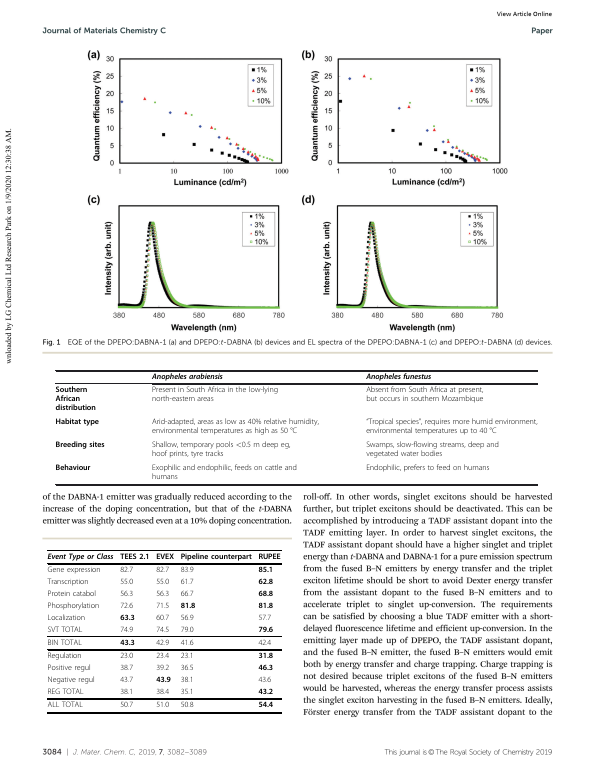borderless: (54, 369, 537, 484), (46, 549, 281, 712)
cell: (365, 418, 538, 437), (151, 418, 320, 437), (151, 464, 298, 483), (151, 441, 291, 460), (365, 441, 500, 460), (151, 386, 279, 405), (365, 386, 484, 405), (365, 464, 490, 474), (54, 386, 97, 414), (151, 373, 224, 382), (180, 553, 253, 562), (365, 373, 432, 382), (47, 553, 114, 562), (47, 566, 101, 576), (47, 602, 100, 612), (54, 441, 106, 451), (47, 590, 97, 600), (47, 676, 96, 686), (54, 418, 100, 428), (47, 664, 92, 674), (47, 578, 89, 588), (47, 614, 86, 624), (54, 464, 91, 474), (47, 688, 84, 698), (47, 639, 83, 649), (47, 652, 83, 662), (47, 702, 84, 711), (47, 626, 83, 635), (119, 553, 150, 562), (257, 553, 282, 562), (155, 553, 175, 562), (257, 652, 274, 662), (257, 664, 274, 674), (155, 676, 172, 686), (257, 688, 274, 698), (257, 566, 274, 575), (257, 578, 274, 587), (257, 590, 274, 599), (257, 602, 274, 611), (119, 614, 136, 623), (257, 626, 274, 635), (119, 639, 136, 648), (257, 702, 274, 711), (119, 566, 134, 576), (155, 566, 170, 576), (119, 578, 134, 588), (155, 578, 170, 588), (119, 590, 134, 600), (155, 590, 170, 600), (119, 602, 134, 612), (155, 602, 170, 612), (155, 614, 170, 624), (257, 614, 272, 624), (155, 639, 170, 649), (257, 639, 272, 649), (119, 652, 134, 662), (155, 652, 170, 662), (119, 664, 134, 674), (155, 664, 170, 674), (119, 676, 134, 686), (257, 676, 272, 686), (119, 688, 134, 698), (155, 688, 170, 698), (180, 602, 196, 611), (180, 566, 194, 576), (180, 578, 194, 588), (180, 590, 194, 600), (180, 614, 194, 624), (180, 639, 194, 649), (180, 652, 194, 662), (180, 664, 194, 674), (180, 676, 194, 686), (180, 688, 194, 698), (119, 626, 134, 635), (155, 626, 170, 635), (119, 702, 134, 711), (155, 702, 170, 711), (180, 626, 194, 635), (180, 702, 194, 711)
